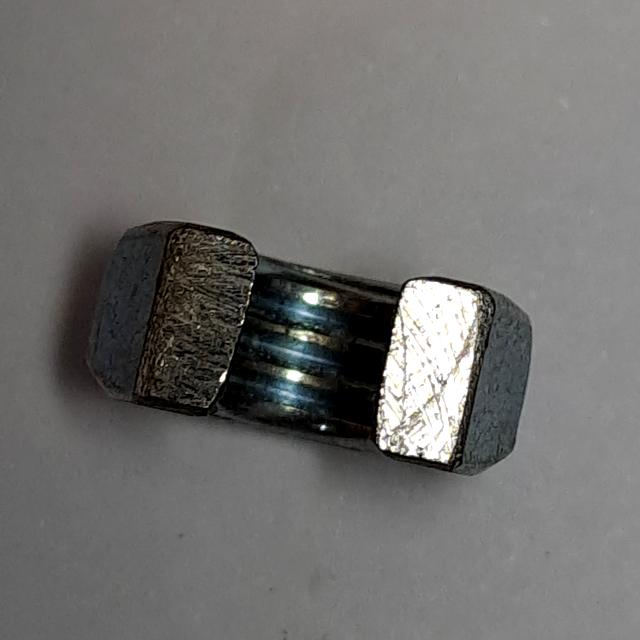Side-Fracture: (70, 205, 553, 502)
